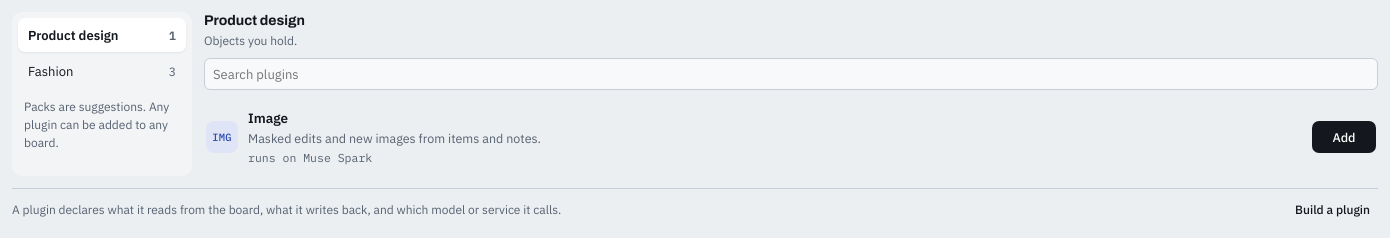
Test: PluginsPanel › names the docs for building a plugin
Click the button "Build a plugin". click: (1333, 210)
box: left=1287, top=199, right=1378, bottom=221
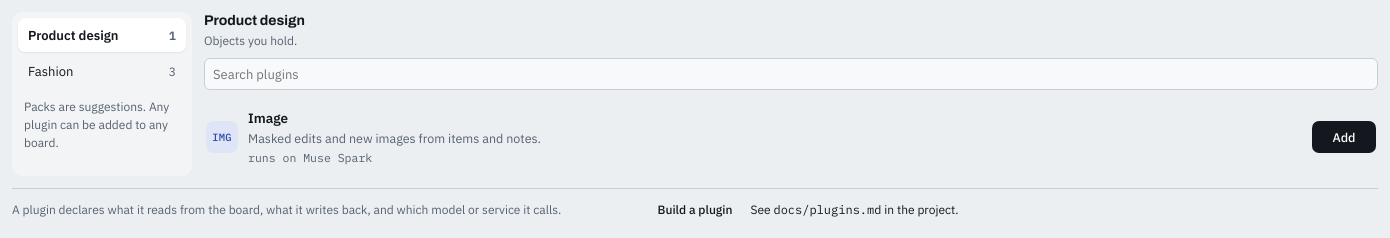
Expected: the text "docs/plugins.md" is shown, left=773, top=202, right=881, bottom=217
